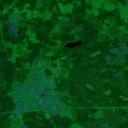alloviz: (63, 39, 83, 49)
